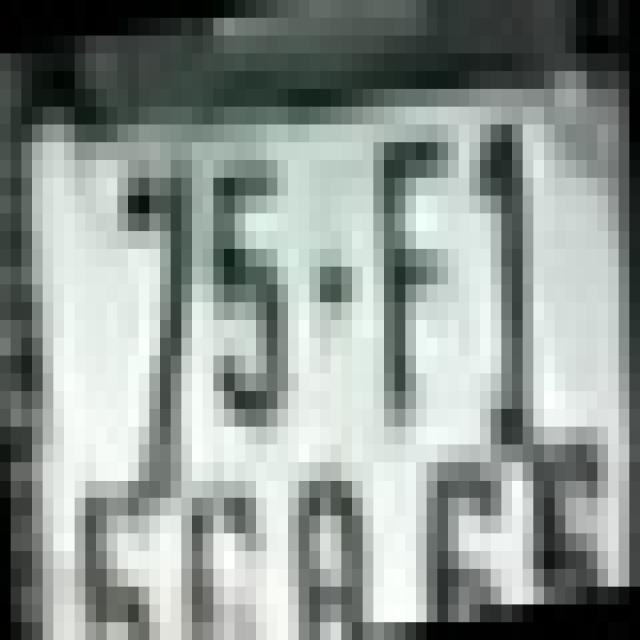1: (459, 89, 544, 444)
5: (203, 160, 288, 427)
7: (117, 125, 192, 462)
F: (373, 125, 459, 426)
